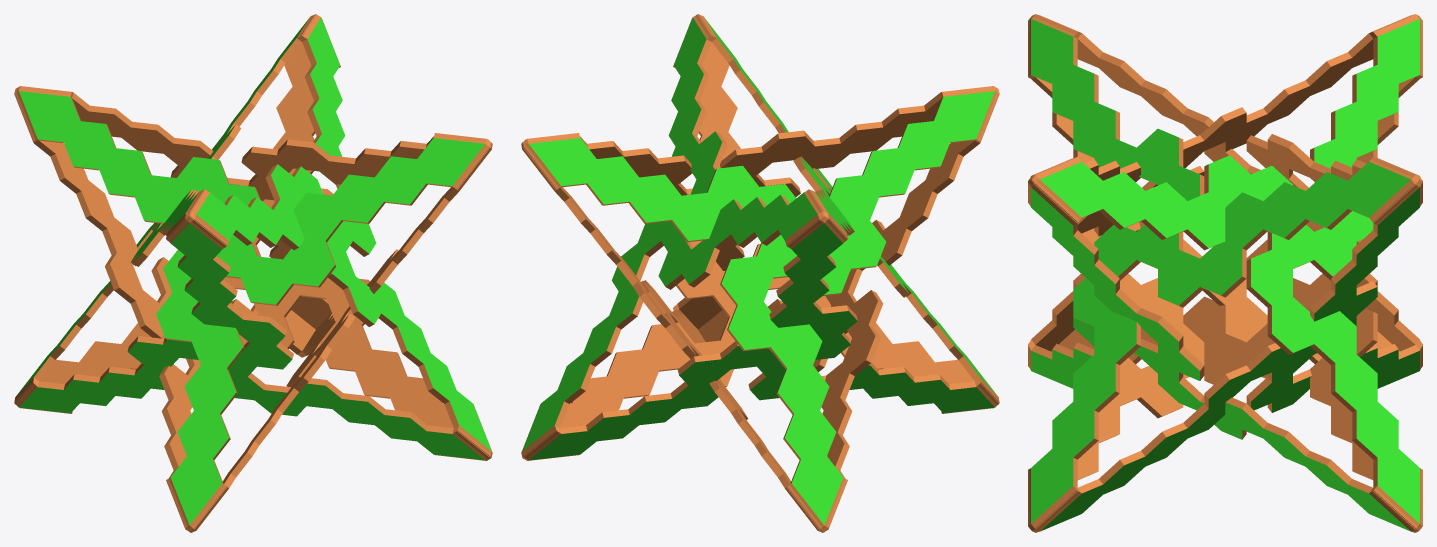
Rendered from StarMerkabaPolyknot1.glb.
3 views of the same model, side by side, from view 1: azimuth 30°, elevation 25°; view 2: azimuth 150°, elevation 25°; view 3: azimuth 270°, elevation 25° (orthographic). The views are drawn at different scales.
Visible parts, largest first — view 1: ESCHER_4.0_STELLATED_OCTAHEDRON_2Augmented_Trunc_Octa; view 2: ESCHER_4.0_STELLATED_OCTAHEDRON_2Augmented_Trunc_Octa; view 3: ESCHER_4.0_STELLATED_OCTAHEDRON_2Augmented_Trunc_Octa.
Boxes of the visible parts, x1,y1,x2,y2 form: ESCHER_4.0_STELLATED_OCTAHEDRON_2Augmented_Trunc_Octa: (14,14,492,532); ESCHER_4.0_STELLATED_OCTAHEDRON_2Augmented_Trunc_Octa: (521,14,999,532); ESCHER_4.0_STELLATED_OCTAHEDRON_2Augmented_Trunc_Octa: (1028,14,1422,532).
Size of the model in its own units: 100 by 100 by 100.
